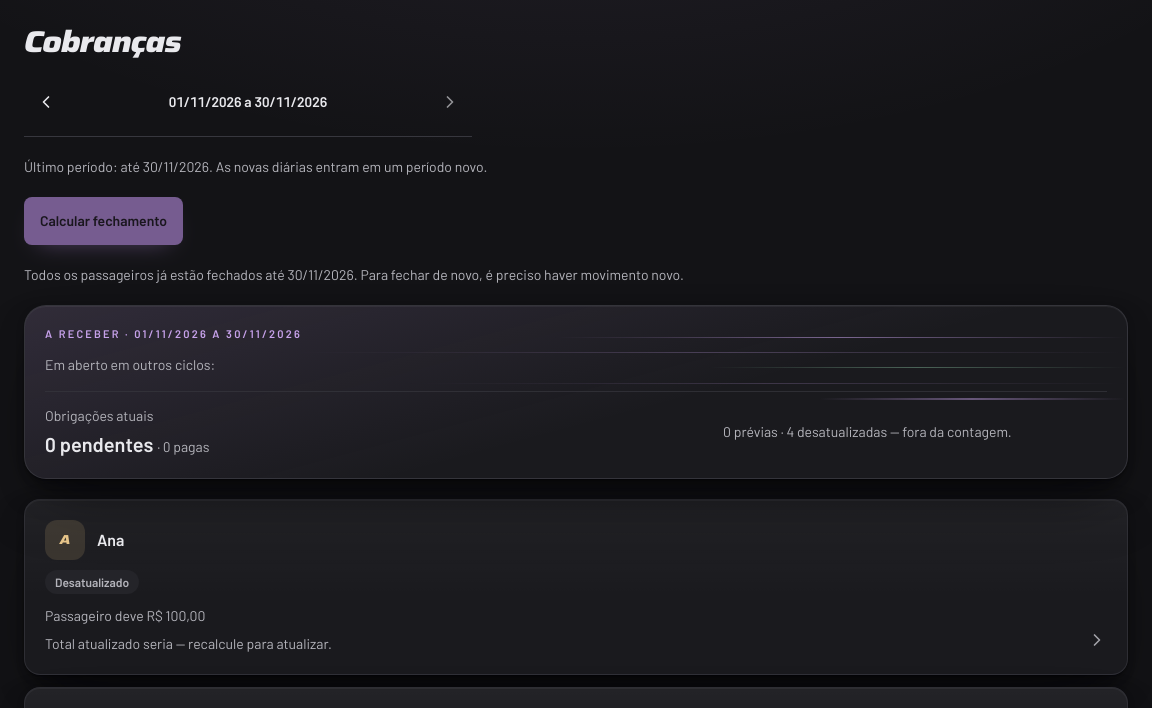
it: no open cycle: every closed passenger is closed through today or later › the arrows still walk the closed cycles, with no open cycle in front
Check: the button named "Próximo ciclo" is disabled, box [428,80,472,124]
Click the button named "Ciclo anterior" at point(46, 102), box [24,80,68,124]
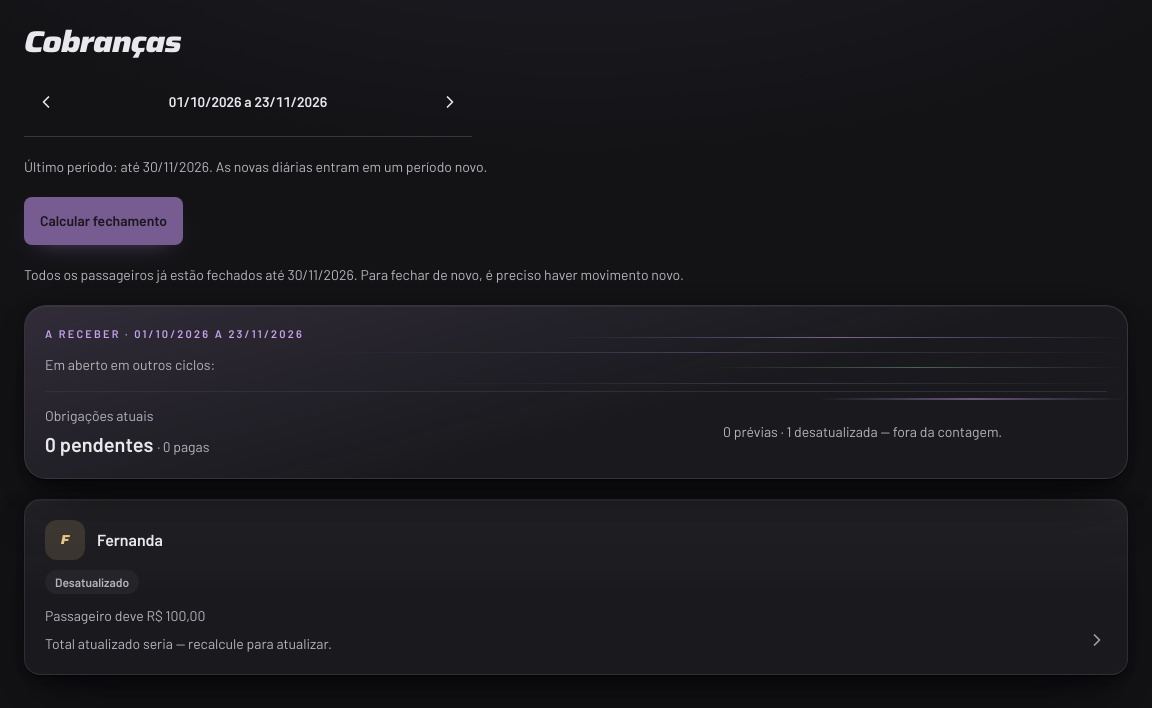
Check: the text "01/10/2026 a 23/11/2026" is shown, box [169,93,327,110]
Check: the text "Fernanda" is shown, box [97,530,163,548]
Click the button named "Próximo ciclo" at point(450, 102), box [428,80,472,124]
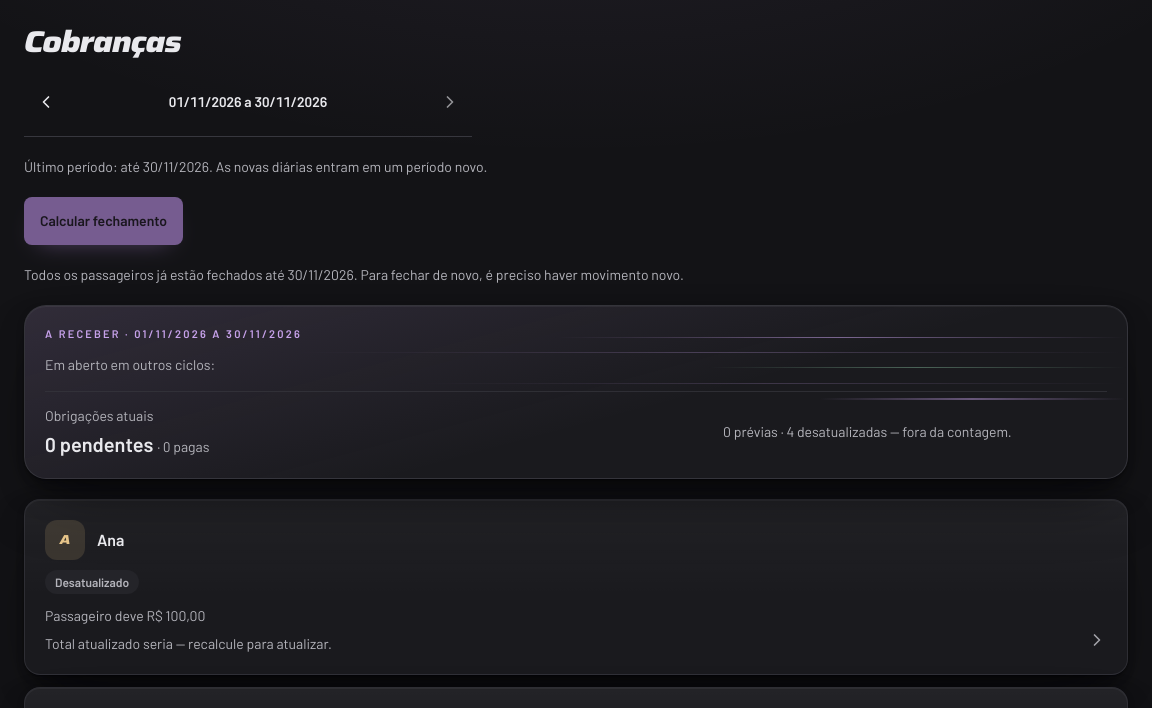
Check: the text "01/11/2026 a 30/11/2026" is shown, box [169,93,327,110]
